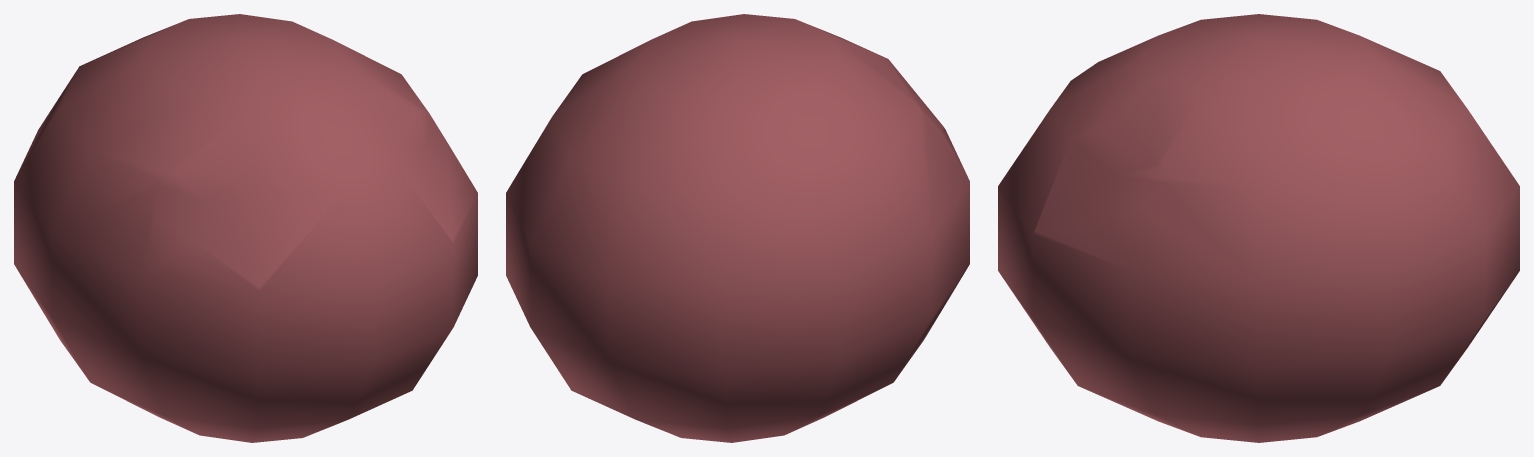
Rendered from trispike_body.obj.
3 renders of one model, left to right at view 1: azimuth 30°, elevation 25°; view 2: azimuth 150°, elevation 25°; view 3: azimuth 270°, elevation 25°, orthographic. The views are drawn at different scales.
Parts seen in each view (by area): view 1: trispike_body; view 2: trispike_body; view 3: trispike_body.
Part boxes in pixels (bbox=[...]): trispike_body: bbox=[14, 14, 477, 442]; trispike_body: bbox=[506, 14, 969, 442]; trispike_body: bbox=[998, 14, 1519, 442].
Size of the model in its own units: 0.6891 by 0.6324 by 0.7858.
